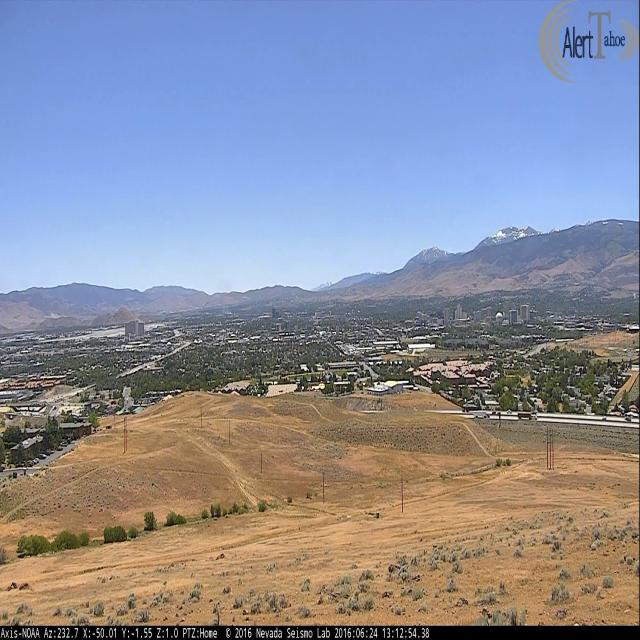smoke: (222, 306, 232, 315)
